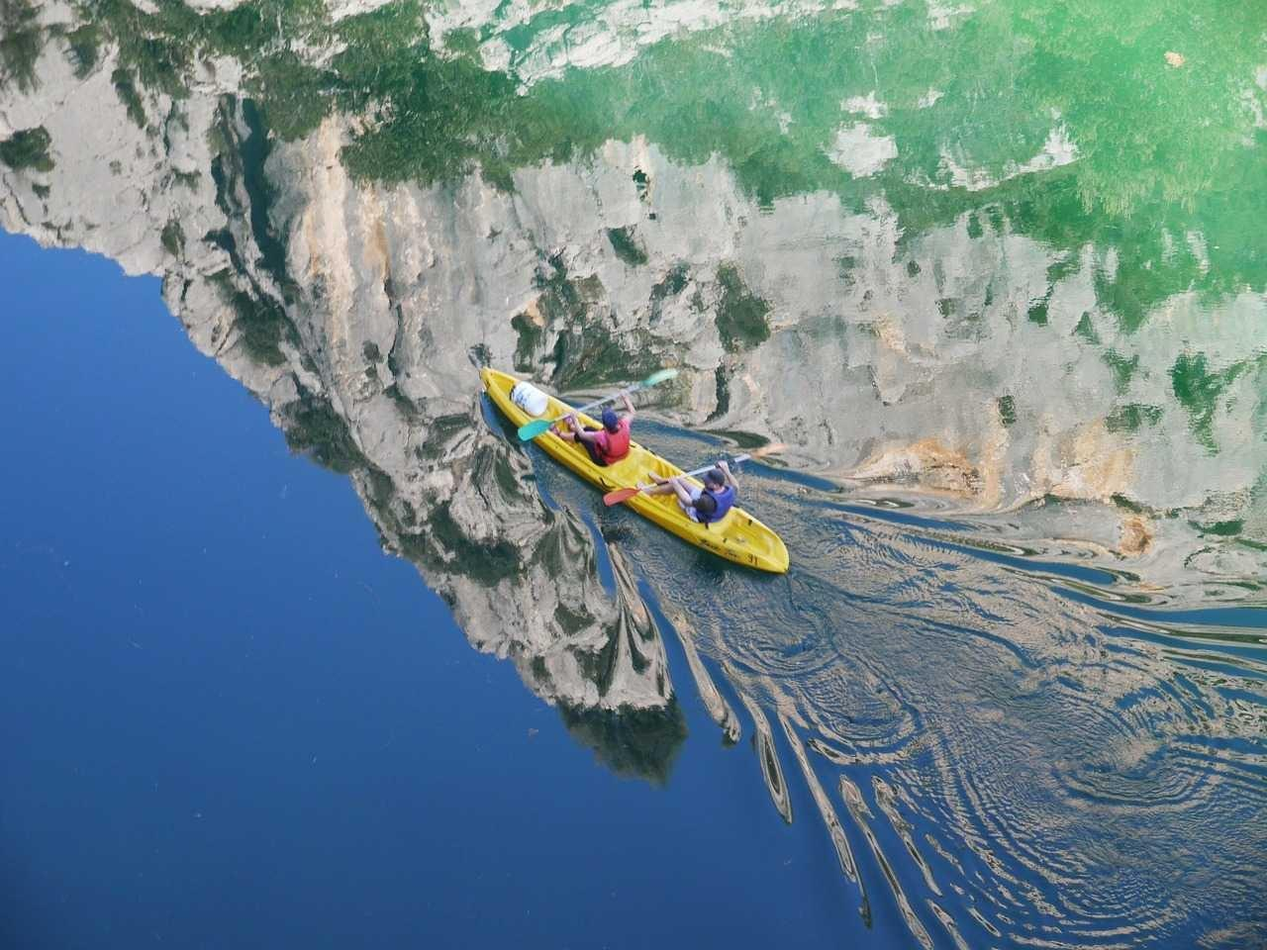kayak: (480, 367, 792, 573)
